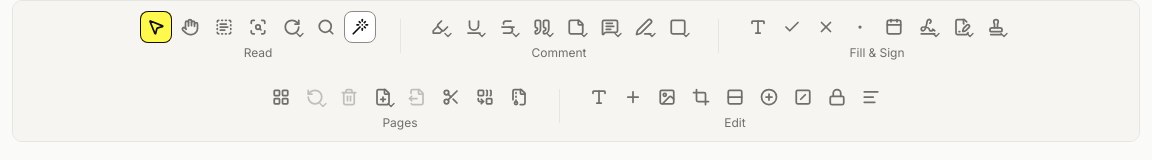
the tool card labels (F21.6) › tooltips in the card open after 150 ms
This screenshot has width=1152, height=160.
Hover over the button named "Select" at (156, 27), box [140, 11, 172, 43]
Wait 160 ms
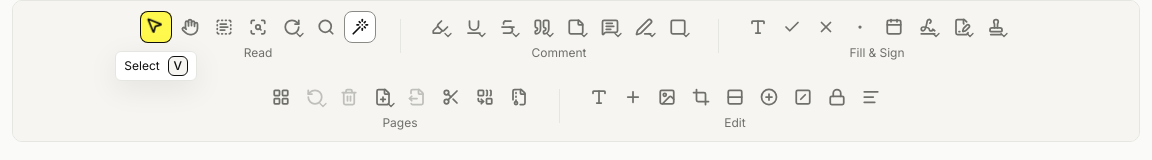
Expected: the tooltip "Select V" is shown, [115, 51, 197, 81]
